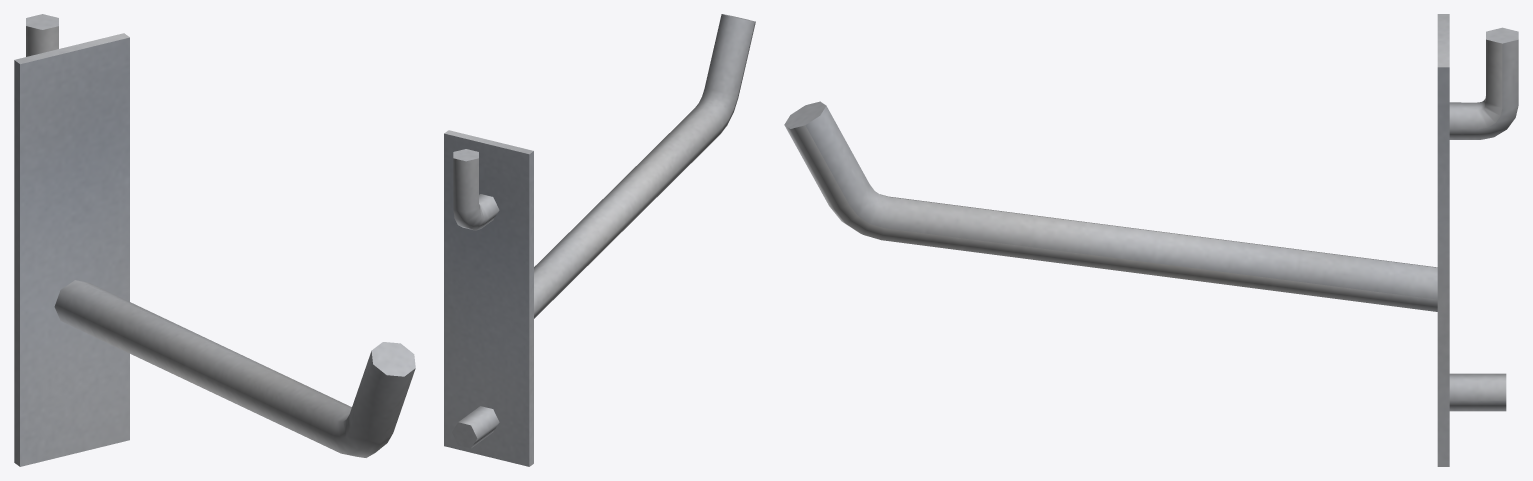
Rendered from haken_kurz.obj.
3 renders of one model, left to right at view 1: azimuth 30°, elevation 25°; view 2: azimuth 150°, elevation 25°; view 3: azimuth 270°, elevation 25°, orthographic. The views are drawn at different scales.
Visible parts, largest first — view 1: Vorlage_Haken_kurz; view 2: Vorlage_Haken_kurz; view 3: Vorlage_Haken_kurz.
Boxes of the visible parts, <box> form: Vorlage_Haken_kurz: <box>14,14,415,466</box>; Vorlage_Haken_kurz: <box>444,14,755,466</box>; Vorlage_Haken_kurz: <box>784,14,1518,466</box>.
Bounding box in the file's own units: 0.016 × 0.0567 × 0.0933.
Materials: 1 (1 with a texture image).
